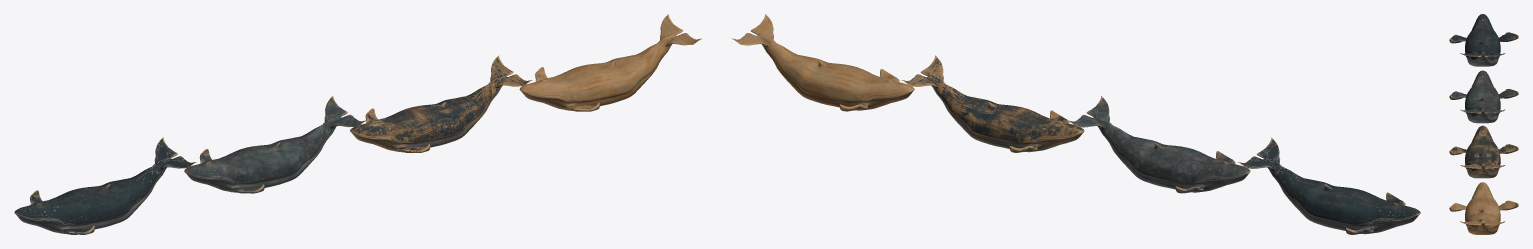
Rendered from humpback_whale.glb.
3 views of the same model, side by side, from view 1: azimuth 30°, elevation 25°; view 2: azimuth 150°, elevation 25°; view 3: azimuth 270°, elevation 25° (orthographic). The views are drawn at different scales.
Parts seen in each view (by area): view 1: Wooden Humpback Whale Decorative Statue Painted 02_0, Wooden Humpback Whale Decorative Statue Painted Worn_3, Wooden Humpback Whale Decorative Statue Painted 01_1, Wooden Humpback Whale Decorative Statue Wooden Unpainted_2; view 2: Wooden Humpback Whale Decorative Statue Painted 02_0, Wooden Humpback Whale Decorative Statue Wooden Unpainted_2, Wooden Humpback Whale Decorative Statue Painted 01_1, Wooden Humpback Whale Decorative Statue Painted Worn_3; view 3: Wooden Humpback Whale Decorative Statue Painted 02_0, Wooden Humpback Whale Decorative Statue Painted 01_1, Wooden Humpback Whale Decorative Statue Painted Worn_3, Wooden Humpback Whale Decorative Statue Wooden Unpainted_2.
Boxes of the visible parts, x1,y1,x2,y2 form: Wooden Humpback Whale Decorative Statue Painted 02_0: [184, 96, 366, 193]; Wooden Humpback Whale Decorative Statue Painted Worn_3: [350, 55, 532, 152]; Wooden Humpback Whale Decorative Statue Painted 01_1: [14, 137, 196, 234]; Wooden Humpback Whale Decorative Statue Wooden Unpainted_2: [519, 14, 701, 111]; Wooden Humpback Whale Decorative Statue Painted 02_0: [1068, 96, 1250, 193]; Wooden Humpback Whale Decorative Statue Wooden Unpainted_2: [732, 14, 914, 111]; Wooden Humpback Whale Decorative Statue Painted 01_1: [1237, 137, 1420, 234]; Wooden Humpback Whale Decorative Statue Painted Worn_3: [901, 55, 1084, 152]; Wooden Humpback Whale Decorative Statue Painted 02_0: [1449, 70, 1518, 123]; Wooden Humpback Whale Decorative Statue Painted 01_1: [1449, 14, 1518, 66]; Wooden Humpback Whale Decorative Statue Painted Worn_3: [1449, 125, 1518, 178]; Wooden Humpback Whale Decorative Statue Wooden Unpainted_2: [1449, 182, 1518, 234].
Size of the model in its own units: 2.29 by 0.1675 by 0.3006.
Materials: 4 (4 with a texture image).
